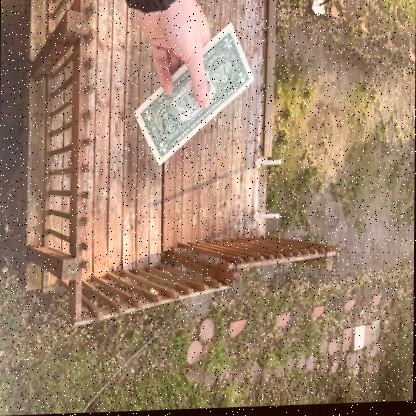one-back: (131, 23, 254, 166)
